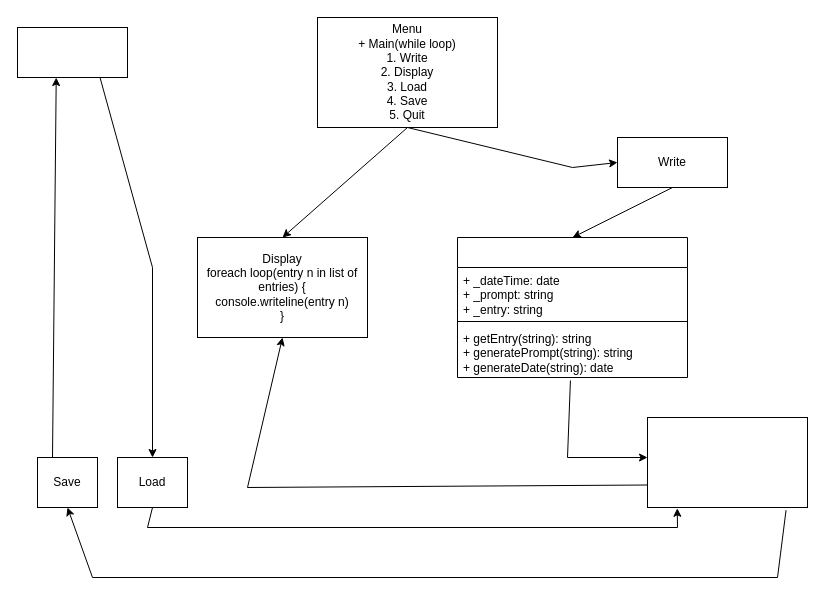
The diagram is 825 pixels wide and 603 high, and some of its shapes have lost their labels. Each missing label, with the box of its shape:
class Entry: (456, 236, 688, 378)
Directory: (16, 26, 128, 78)
object Entryn + _dateTime: date + _prompt: string + _entry: string: (646, 416, 808, 508)
